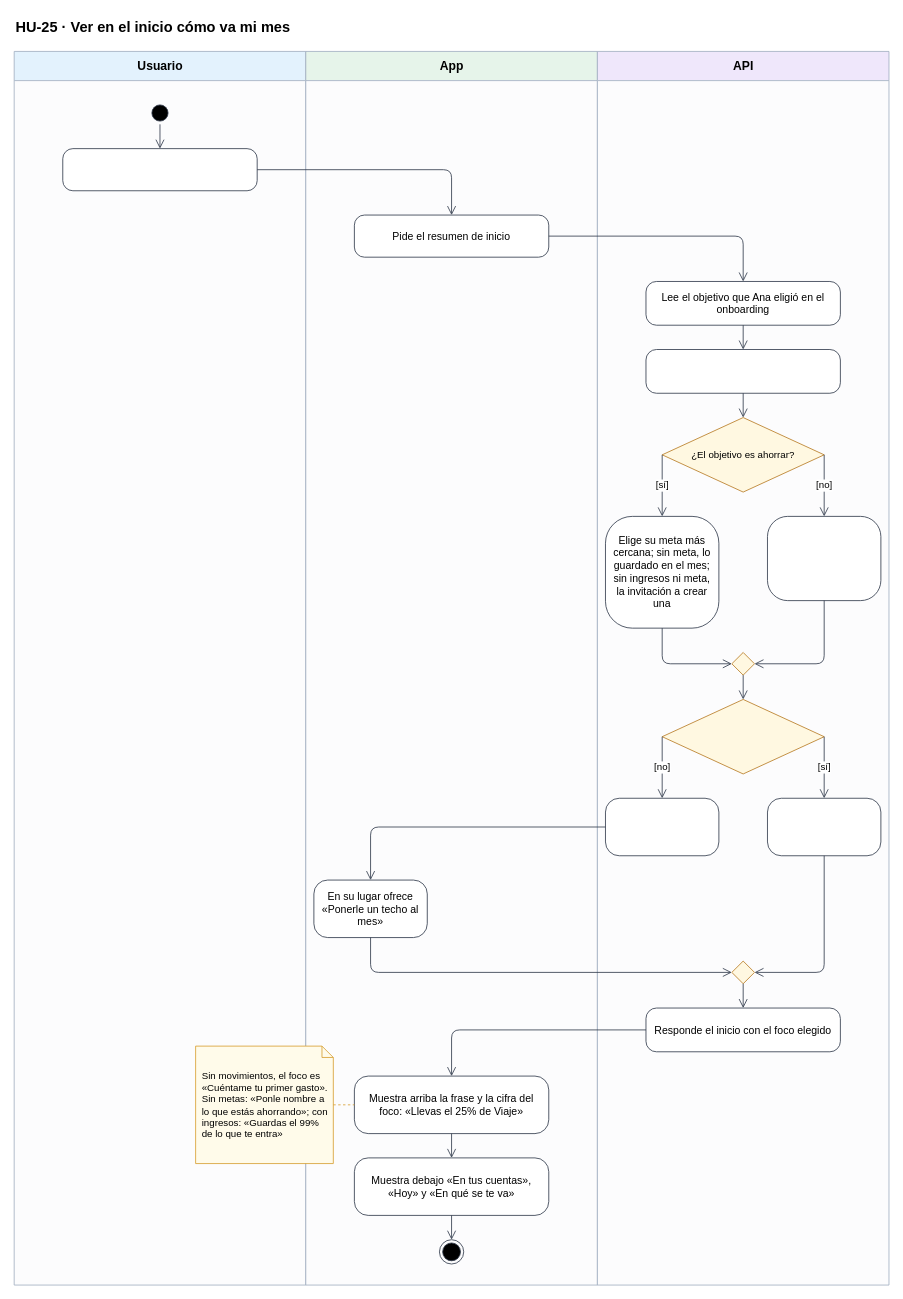
Image size: 903x1299. Some labels were removed from this diagram. Each missing label, with the centre of its shape:
"Abre «Inicio»" goes at pixel 159 169.
"Agrega lo que queda del techo y la cifra por día" goes at pixel 824 826.
"Elige el foco de su objetivo: sus deudas, o su gasto frente al mes anterior" goes at pixel 824 558.
"No envía ninguna cifra de techo ni de gasto diario" goes at pixel 662 826.
"Reúne saldo, gasto e ingresos del mes, techo, deudas y metas" goes at pixel 742 371.
"¿Hay techo definido?" goes at pixel 742 736.
